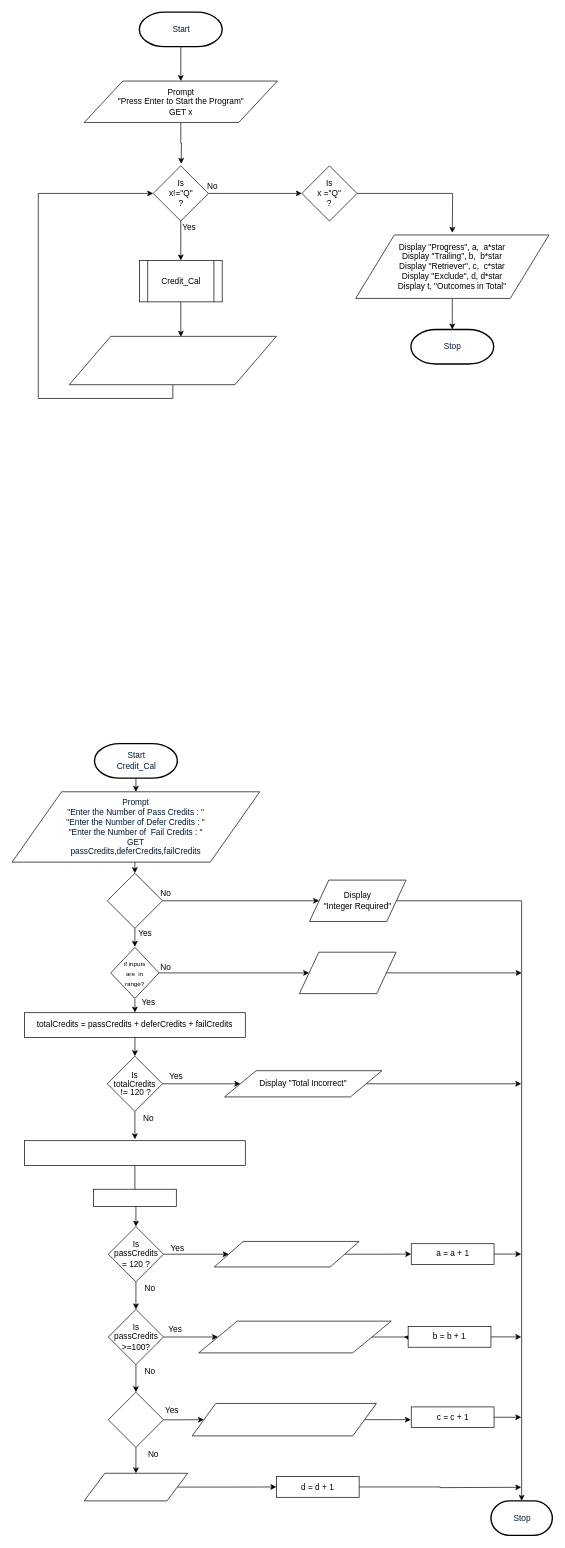
Image size: 565x1548. Some labels were removed from this diagram. Here are the shapes that lost their labels. From the top down, the box of each, then its label:
(69, 336, 276, 385): Prompt "Press Enter to Run the Program Again or Press 'Q' to Quit:" GET x
(107, 873, 162, 928): if inputs are integers?
(299, 952, 396, 994): Display "Range Error!"
(24, 1140, 245, 1166): passDefer = passCredits + deferCredits
(93, 1189, 176, 1206): t = t + 1
(214, 1241, 359, 1267): Display "Progress"
(198, 1320, 391, 1353): Display "Progress - Module Trailer"
(108, 1392, 164, 1447): Is passDefer >=60?
(191, 1403, 376, 1436): Display "Do not Progress - Module Retriever"
(83, 1473, 188, 1501): Display "Exclude"
